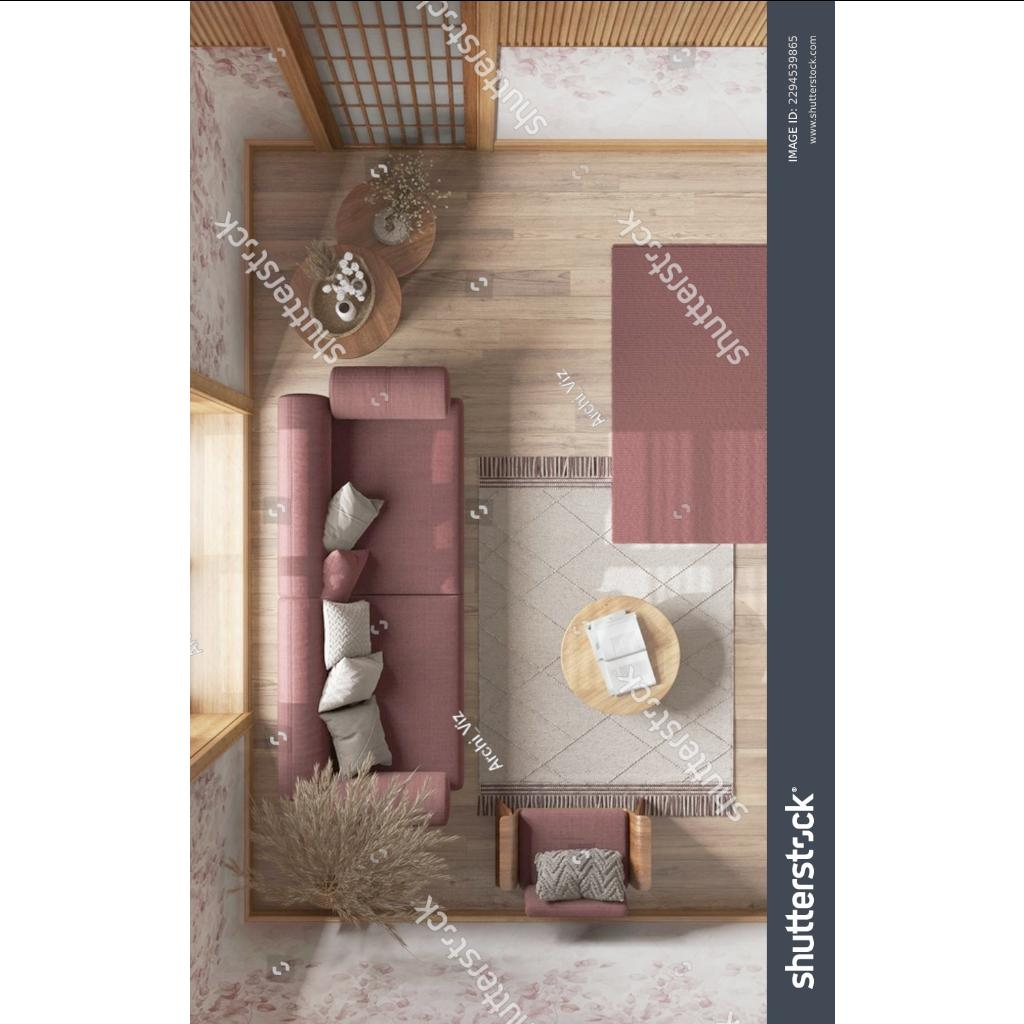chair: (498, 800, 648, 920)
coffee table: (288, 179, 434, 357), (560, 594, 680, 714)
floor plant: (300, 838, 392, 914)
rug: (477, 456, 737, 816), (610, 242, 764, 544)
sofa: (273, 363, 467, 831)
window: (192, 387, 210, 765)
